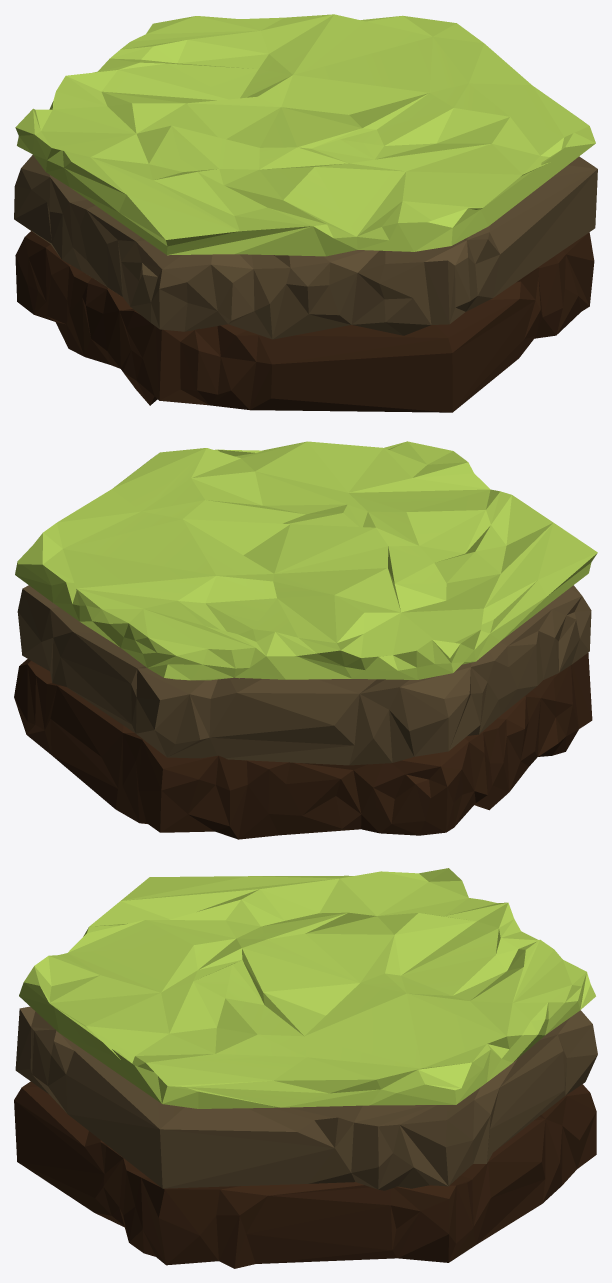
The model's file is grass1.fbx.
3 views of the same model, one above another, from view 1: azimuth 30°, elevation 25°; view 2: azimuth 150°, elevation 25°; view 3: azimuth 270°, elevation 25° (orthographic).
Parts seen in each view (by area): view 1: grass1; view 2: grass1; view 3: grass1.
Part boxes in pixels (box(x1,y1,x2,y2)): grass1: box(14, 14, 597, 412); grass1: box(14, 441, 597, 839); grass1: box(14, 868, 597, 1268).
Bounding box in the file's own units: 984 × 461 × 1125.
